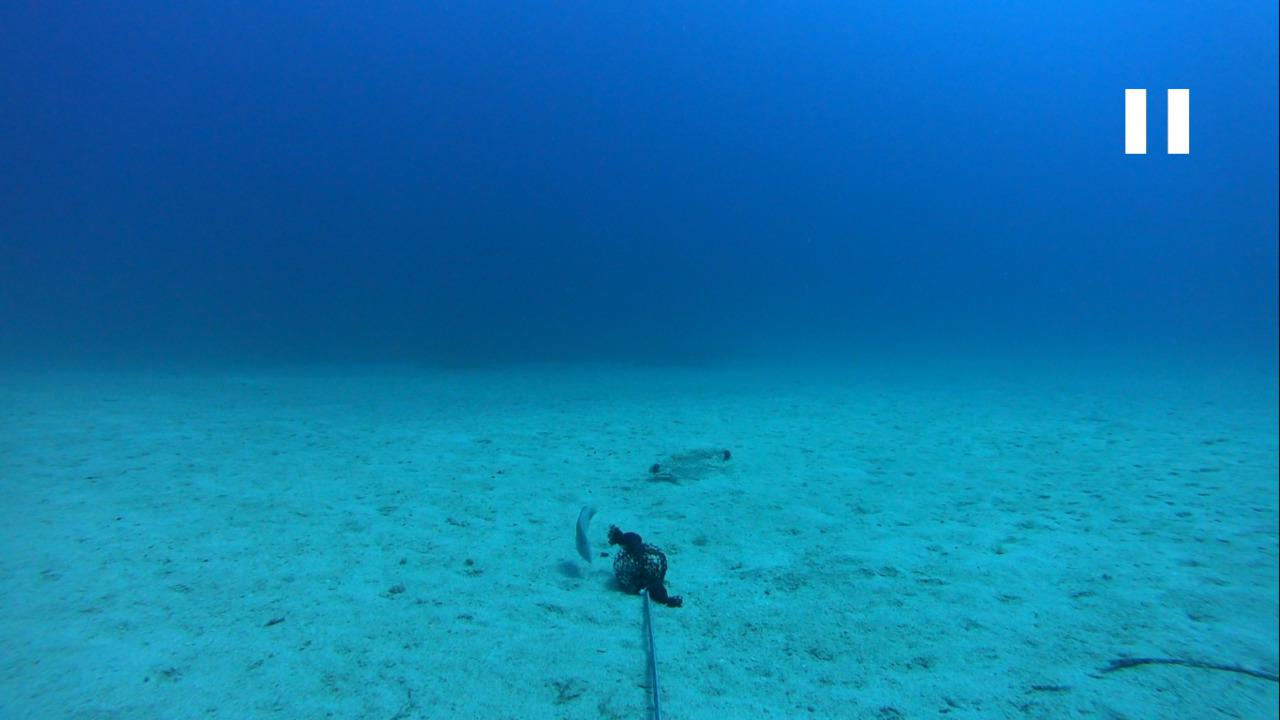dactylopterus: (667, 441, 748, 467), (635, 460, 694, 484)
raor: (560, 494, 614, 568)
